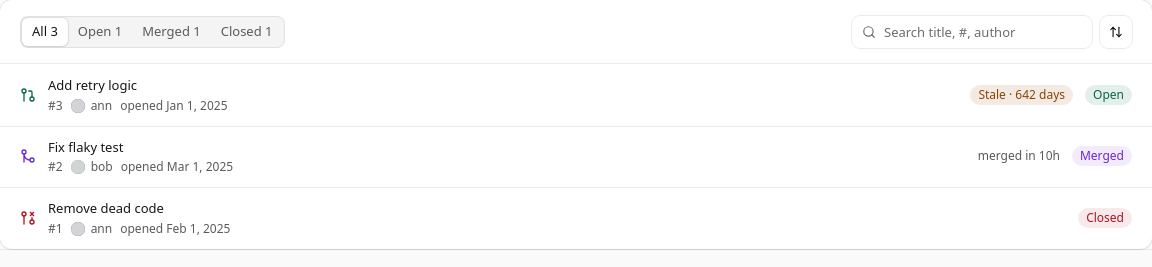
PullTable › filters by state and shows counts
Check: the tab "All 3" is shown, box [22,18,68,46]
Click the tab "Merged 1" at (171, 32), box [132,18,211,46]
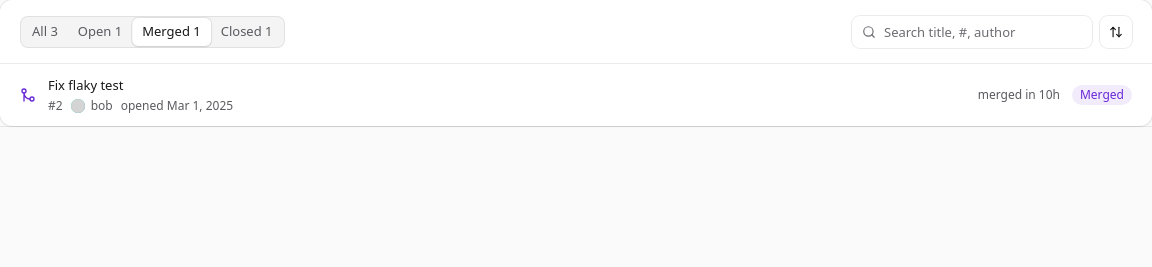
Check: the link "Fix flaky test" is shown, box [48,76,123,94]
Check: the link "Add retry logic" is gone
